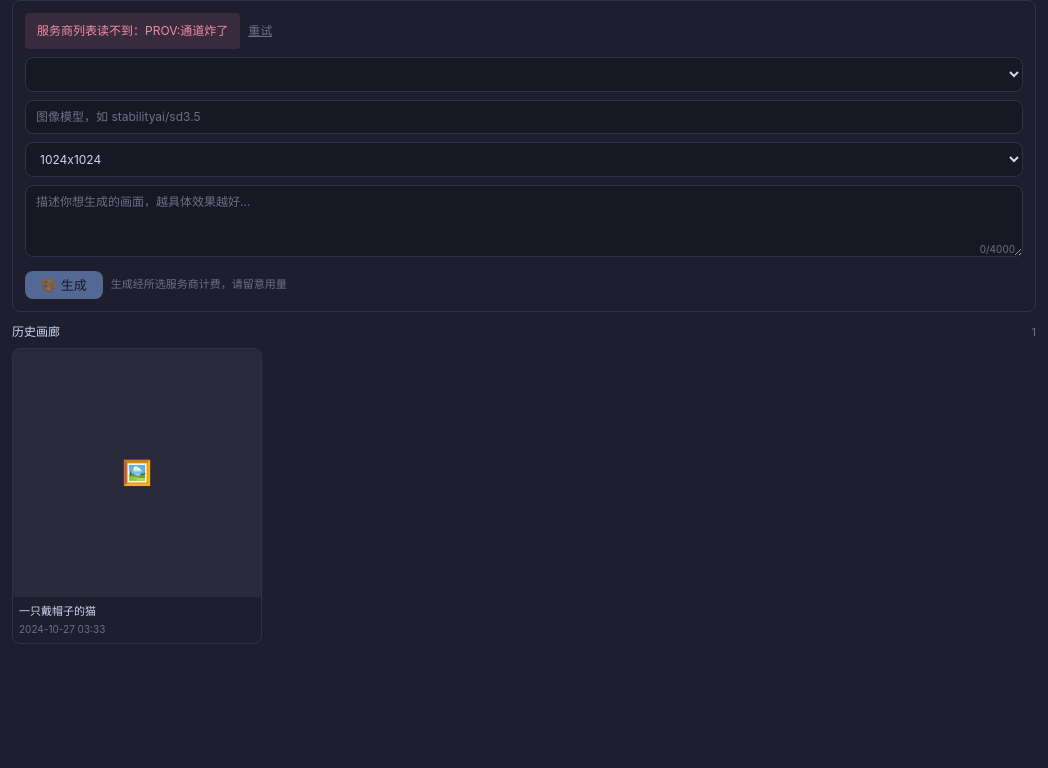
绘图页：服务商那一发读不到 ⇒ 下拉空着不是"一家都没有"，那颗键按下去真再发一发 › 失败脸有键（在 alert 盒子外）⇒ 按下去真多发一发 listProviders ⇒ 到货后那句与那颗键一起撤
Click the button "重试". click: (260, 31)
box: [248,23,272,39]
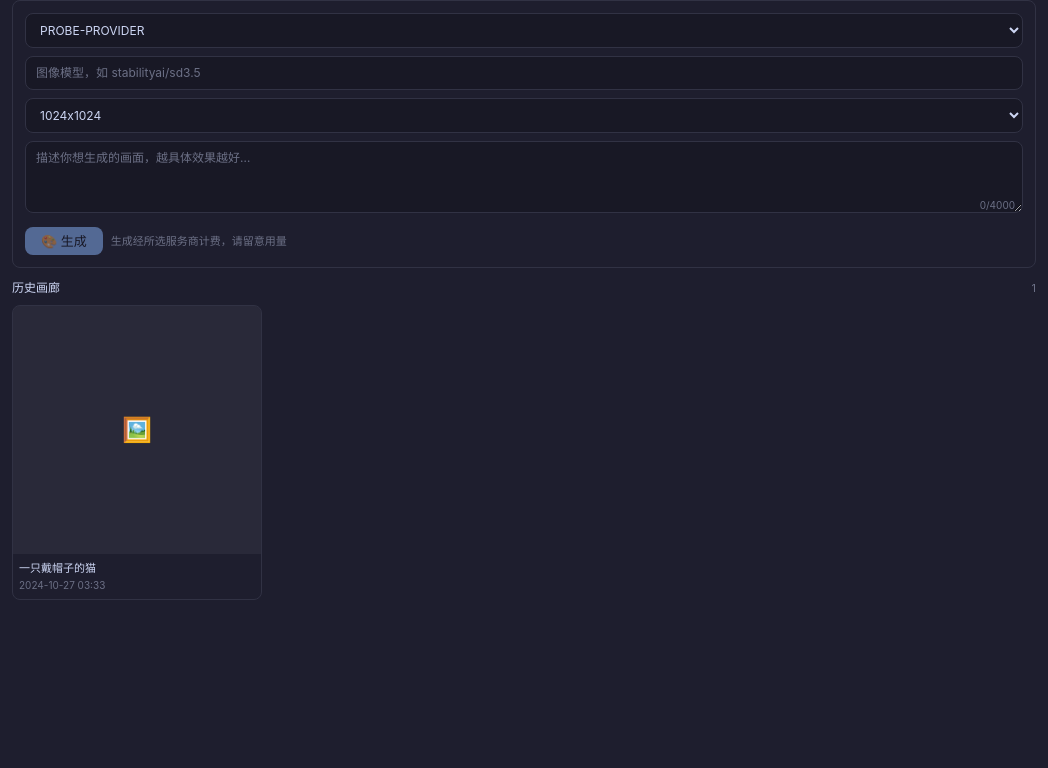
Result: the button with test id "image-providers-read-retry" is gone
